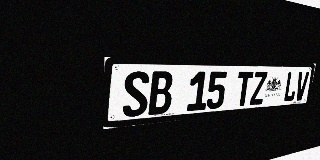1: (187, 71, 209, 111)
5: (206, 71, 227, 109)
B: (148, 71, 173, 115)
L: (283, 72, 299, 102)
S: (122, 71, 149, 118)
T: (234, 71, 253, 107)
V: (294, 72, 309, 101)
Z: (249, 71, 268, 105)
